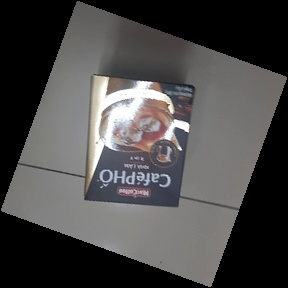CF pho: (83, 71, 197, 208)
